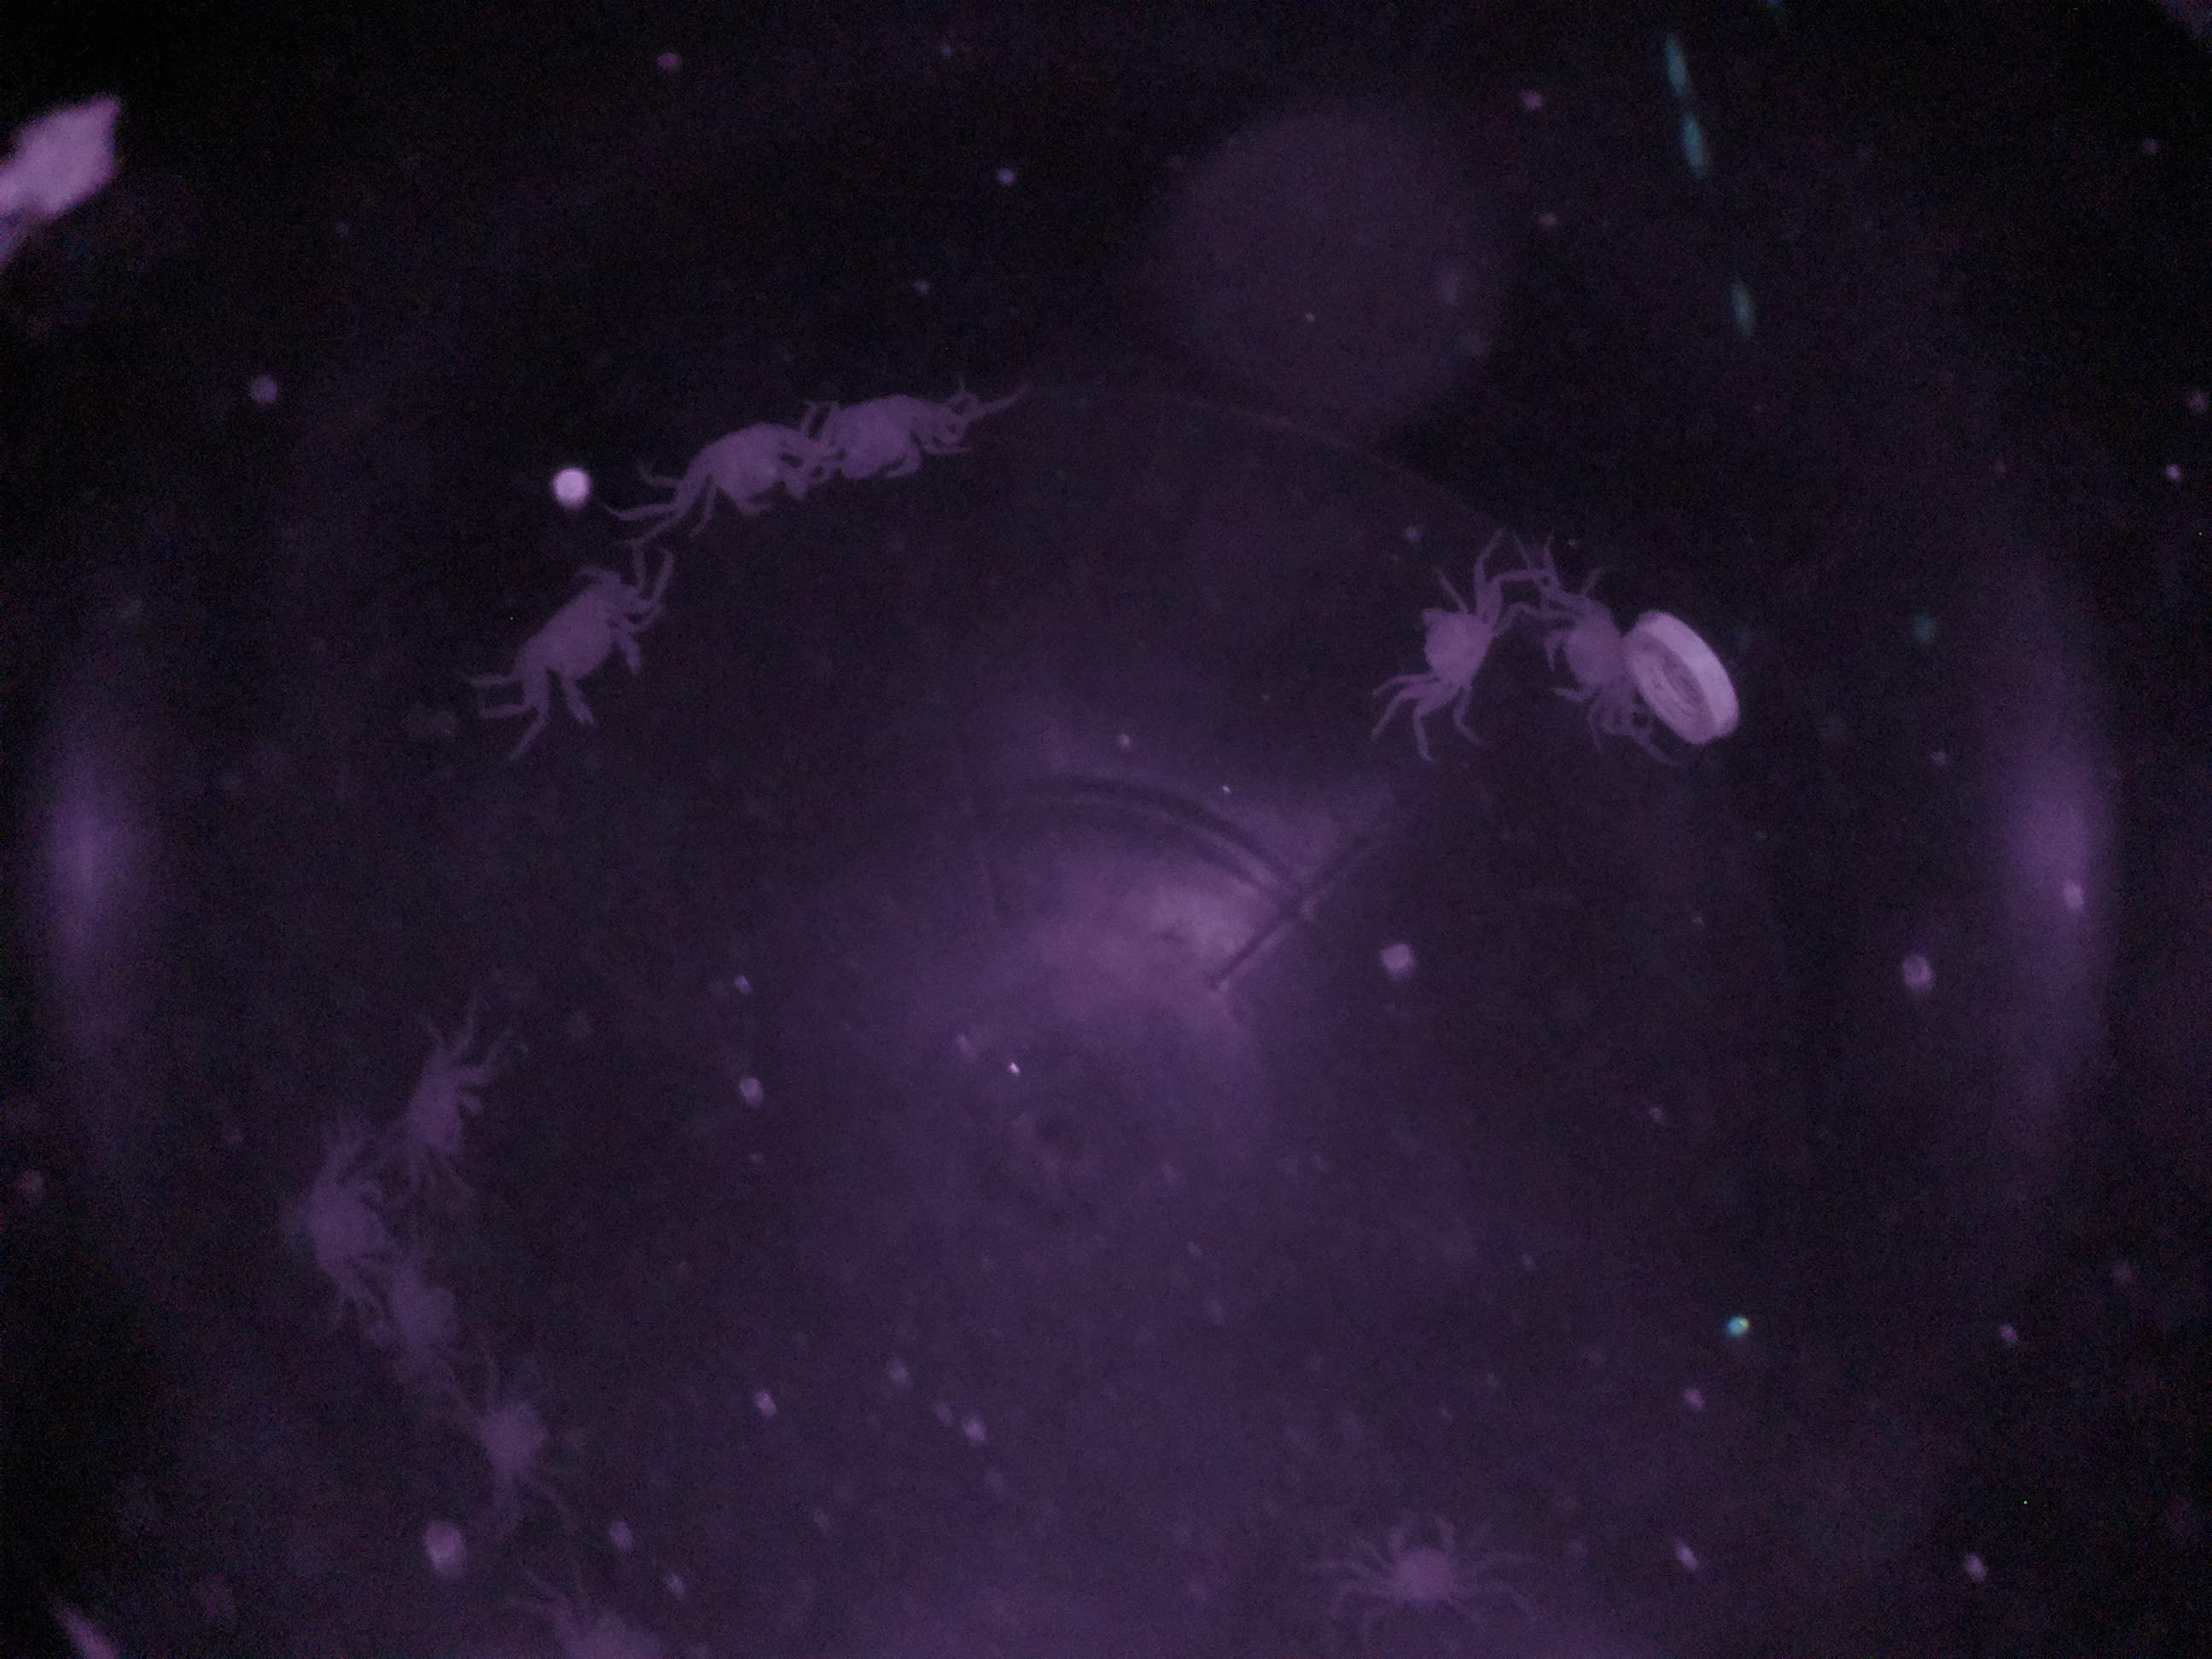Crab: (489, 538, 669, 741), (1529, 530, 1662, 765), (1386, 551, 1527, 762)
